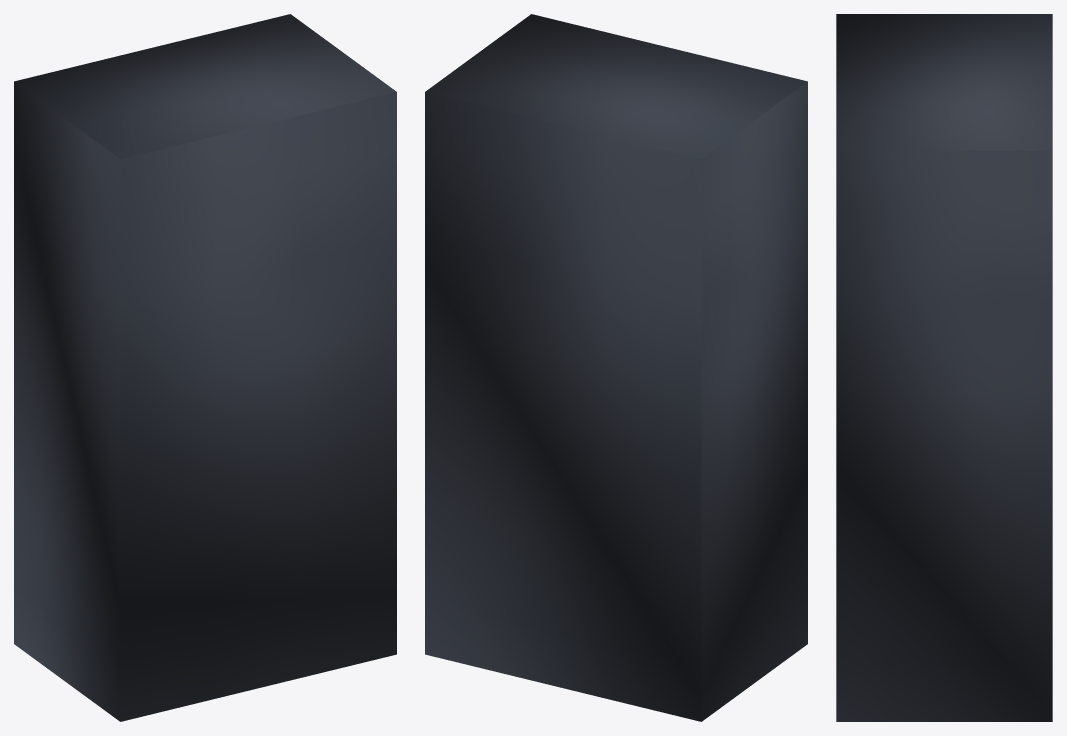
Rendered from pack.agentspace.clothing.trousers.01.glb.
3 views of the same model, side by side, from view 1: azimuth 30°, elevation 25°; view 2: azimuth 150°, elevation 25°; view 3: azimuth 270°, elevation 25° (orthographic).
Parts seen in each view (by area): view 1: pack.agentspace.clothing.trousers.01.mesh; view 2: pack.agentspace.clothing.trousers.01.mesh; view 3: pack.agentspace.clothing.trousers.01.mesh.
Part boxes in pixels (bbox=[...]): pack.agentspace.clothing.trousers.01.mesh: bbox=[14, 14, 396, 721]; pack.agentspace.clothing.trousers.01.mesh: bbox=[425, 14, 807, 721]; pack.agentspace.clothing.trousers.01.mesh: bbox=[836, 14, 1052, 721].
Size of the model in its own units: 0.36 by 0.7 by 0.24.
Materials: 1 (1 with a texture image).
